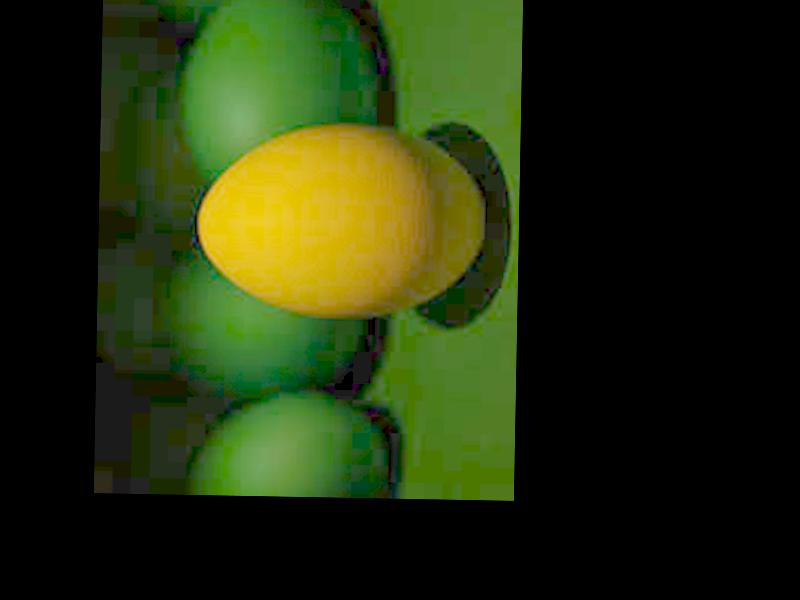Eggs: (198, 122, 486, 320)
